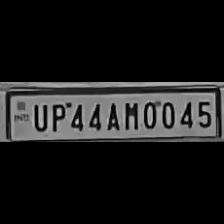0: (140, 98, 158, 130), (158, 98, 176, 130)
4: (84, 99, 102, 131), (66, 99, 84, 130), (176, 97, 194, 128)
5: (194, 97, 212, 128)
A: (103, 99, 120, 131)
M: (120, 99, 140, 131)
P: (48, 100, 66, 132)
U: (28, 100, 48, 132)
